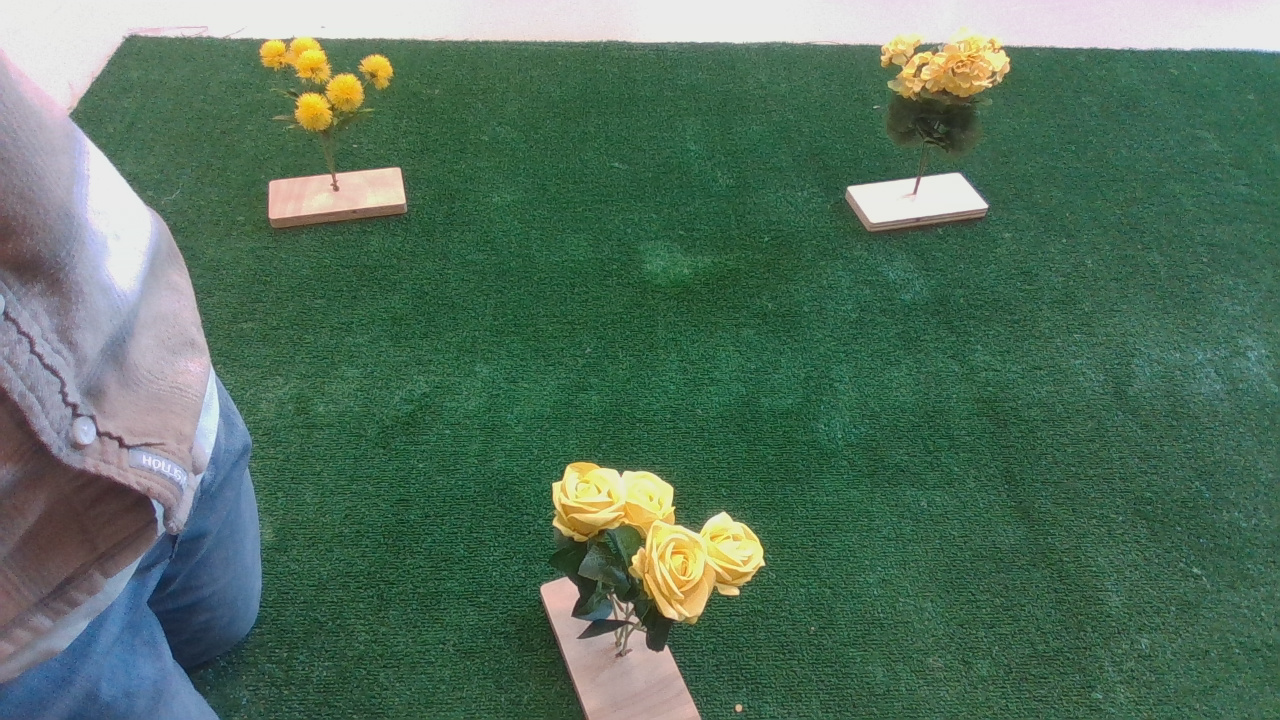dandelion: (257, 37, 406, 149)
geranium: (880, 23, 1022, 162)
rose: (519, 454, 780, 650)
